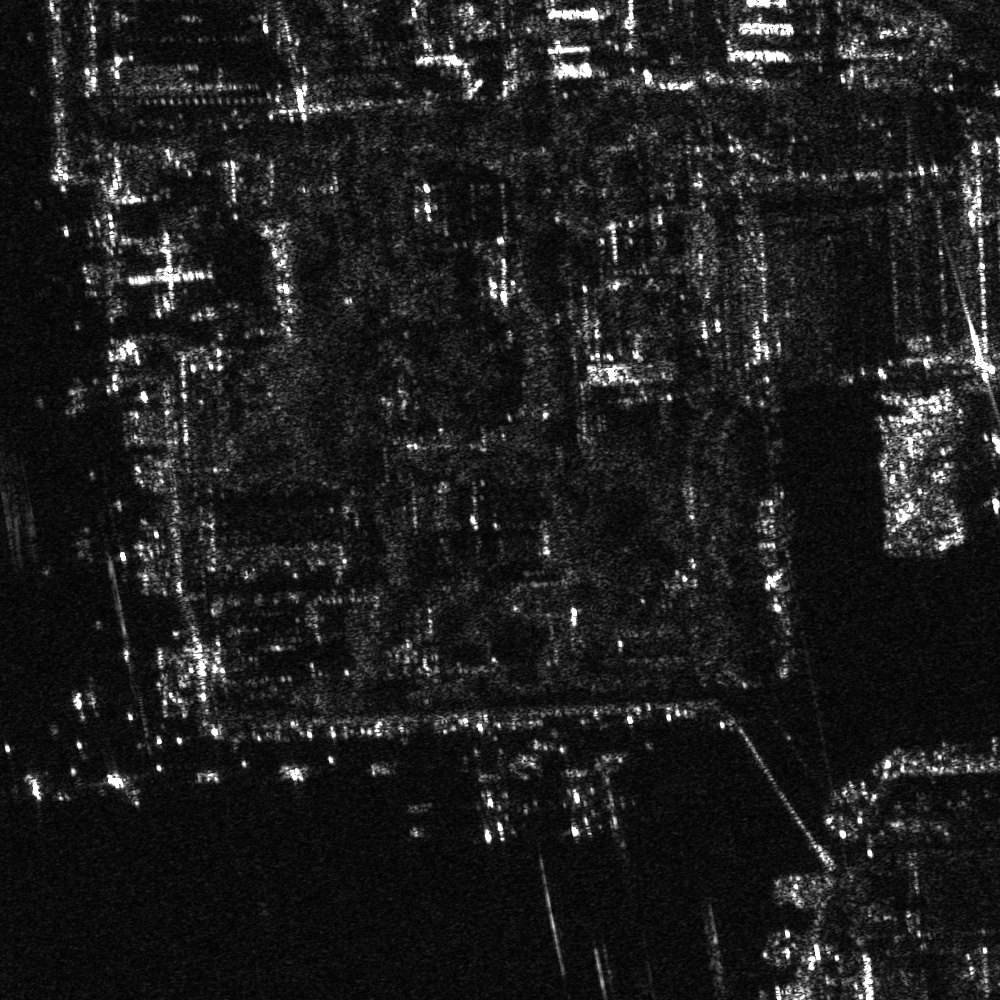ARJ21: (457, 766, 532, 846)
Boeing737: (549, 764, 618, 843), (89, 762, 155, 812), (973, 426, 999, 517)
